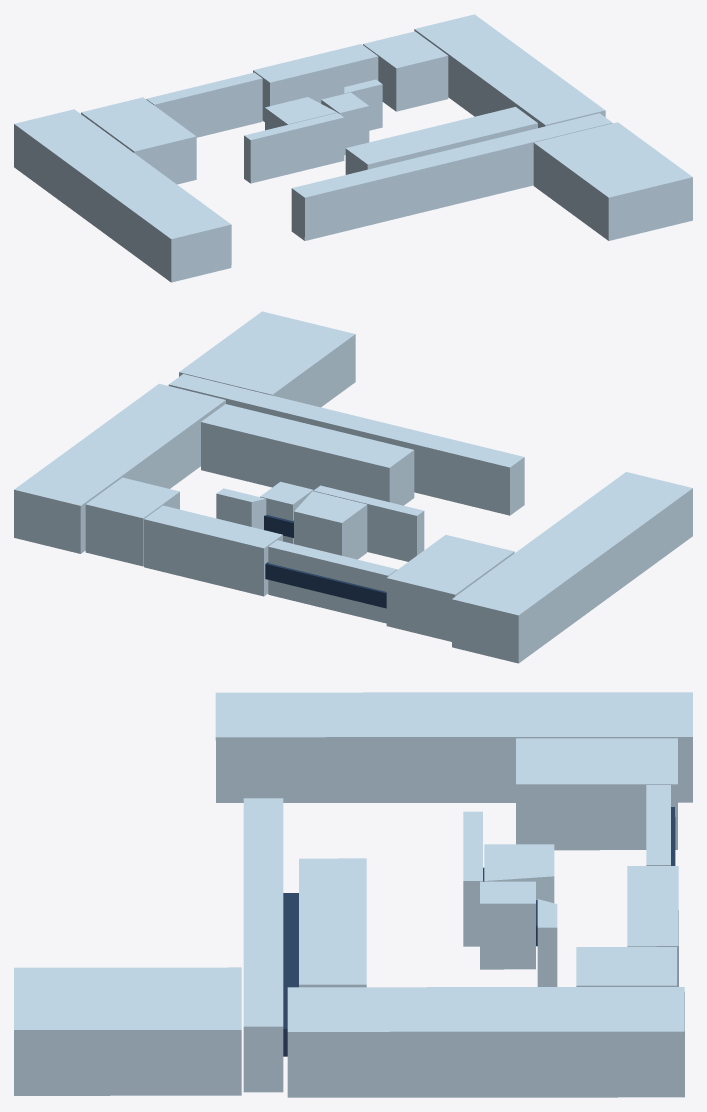
File: level1.fbx
The picture shows the model from 3 angles, top to bottom: view 1: azimuth 30°, elevation 25°; view 2: azimuth 150°, elevation 25°; view 3: azimuth 270°, elevation 25°; orthographic projection. The views are drawn at different scales.
Visible parts, largest first — view 1: Cube.010, Cube.014, Cube.015, Cube.011, Cube.002, Cube.012, Cube.003, Cube.001, Cube.004, Cube, Cube.005, Cube.007 (+1 smaller); view 2: Cube.010, Cube.011, Cube.012, Cube.014, Cube.015, Cube.001, Cube.002, Cube.004, Cube, Cube.007, Cube.003, Cube.009 (+2 smaller); view 3: Cube.011, Cube.010, Cube.015, Cube.002, Cube.014, Cube.012, Cube.005, Cube.001, Cube.004, Cube.007, Cube.003, Cube (+2 smaller).
Boxes of the visible parts, x1,y1,x2,y2 form: Cube.010: (14,109,231,282); Cube.014: (291,113,612,240); Cube.015: (533,122,692,240); Cube.011: (414,14,605,127); Cube.002: (81,97,196,184); Cube.012: (345,107,537,174); Cube.003: (244,112,344,183); Cube.001: (253,44,378,121); Cube.004: (363,31,448,111); Cube: (146,72,262,137); Cube.005: (321,92,369,155); Cube.007: (265,97,337,130); Cube.010: (452,472,692,663); Cube.011: (14,383,225,553); Cube.012: (201,404,414,505); Cube.014: (168,374,524,515); Cube.015: (179,311,355,407); Cube.001: (144,505,282,596); Cube.002: (386,535,514,641); Cube.004: (85,477,179,566); Cube: (268,540,397,623); Cube.007: (294,491,367,559); Cube.003: (313,485,424,561); Cube.009: (265,562,386,608); Cube.011: (287,987,684,1097); Cube.010: (215,692,692,802); Cube.015: (14,967,241,1095); Cube.002: (516,738,677,850); Cube.014: (243,798,283,1092); Cube.012: (299,858,366,987); Cube.005: (480,881,535,969); Cube.001: (627,866,678,986); Cube.004: (576,947,677,986); Cube.007: (484,844,554,902); Cube.003: (463,811,482,946); Cube: (646,785,670,865).
Bounding box in the file's own units: 2208 × 203 × 1869.
